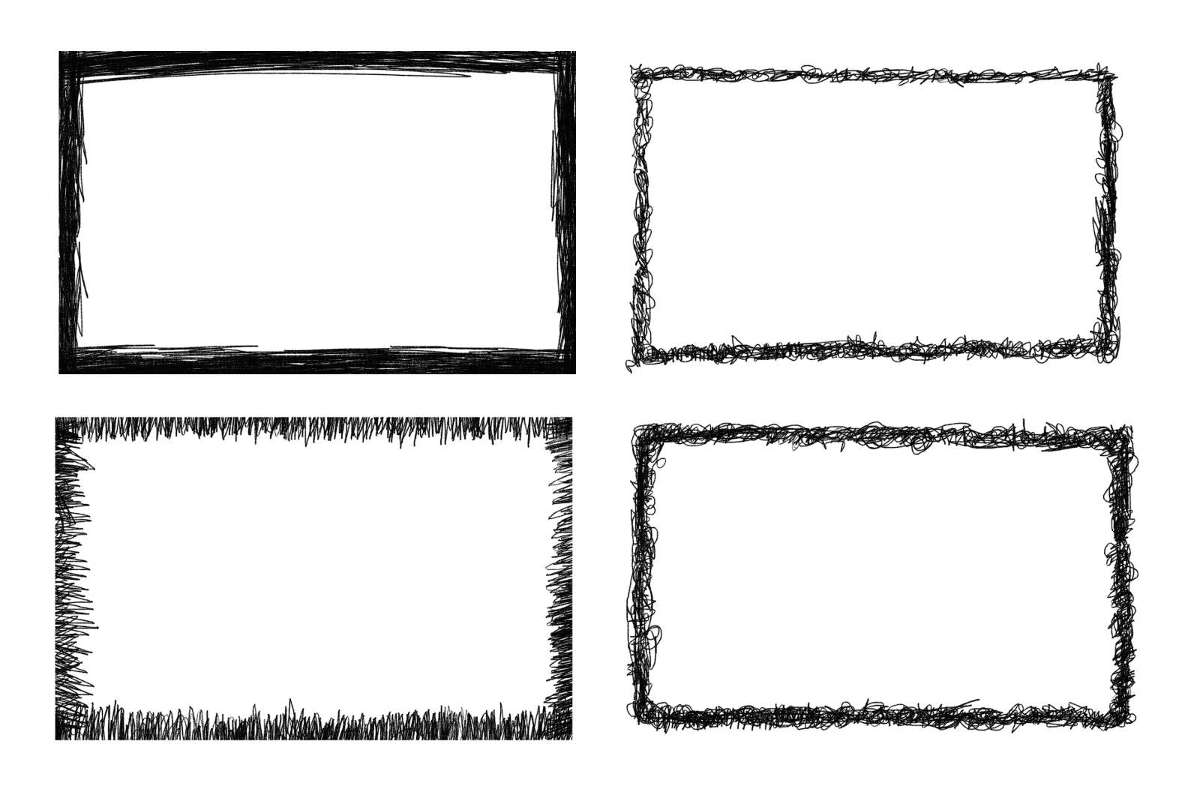rectangulo: (59, 50, 578, 376), (54, 416, 572, 741), (629, 425, 1137, 731), (629, 67, 1122, 366)
